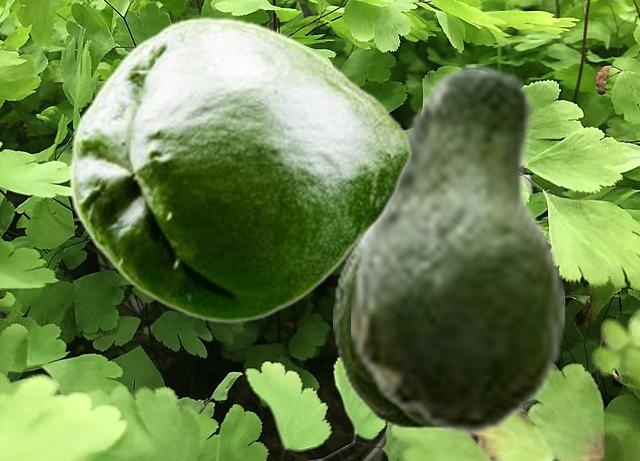sayote: (68, 16, 411, 322), (351, 64, 563, 435), (333, 243, 434, 428)
